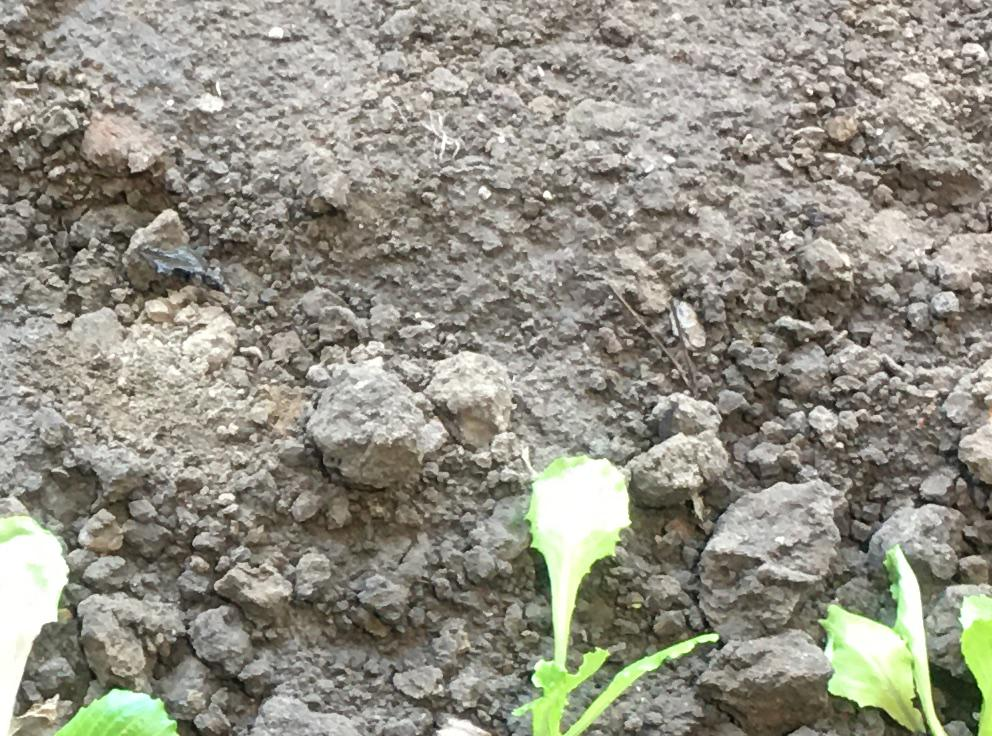block: (699, 483, 840, 635), (691, 634, 835, 733), (310, 365, 424, 487), (625, 424, 728, 508), (429, 349, 509, 454)
